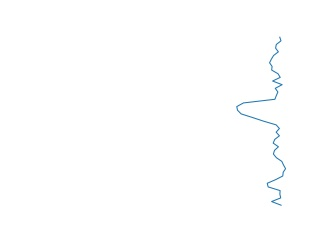interdistributaryEstuary: (233, 35, 295, 206)
